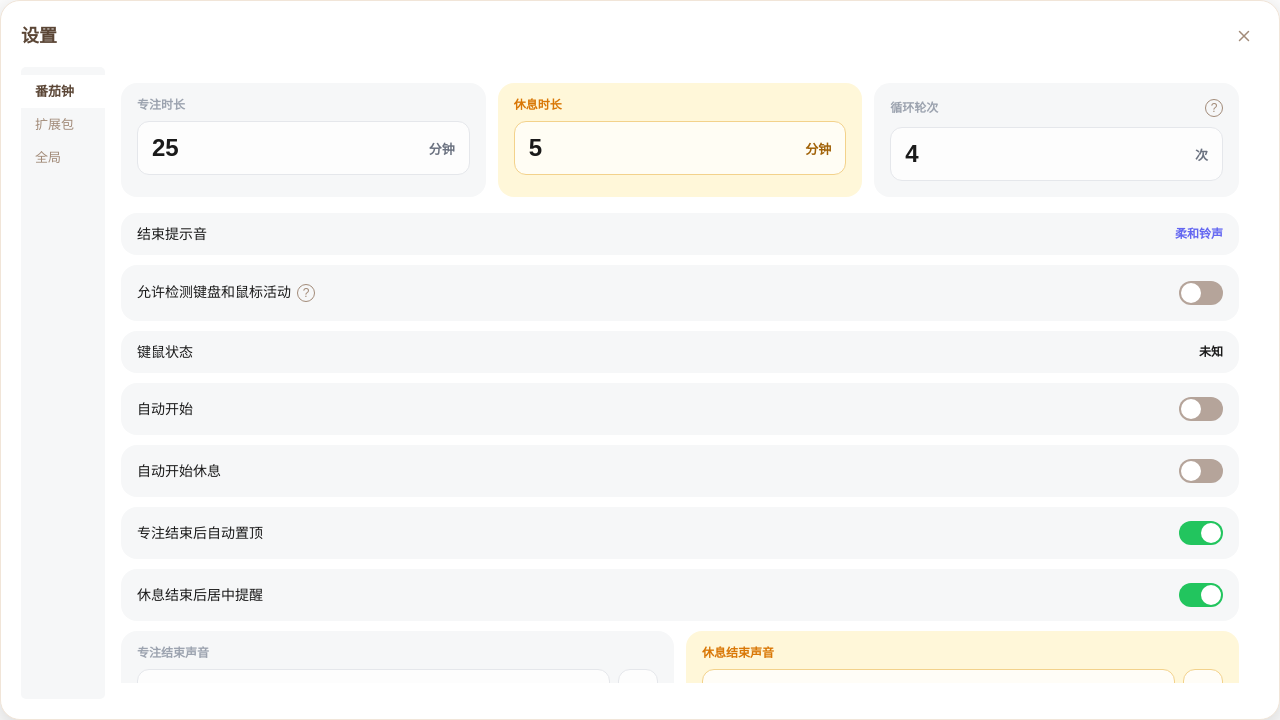
Test: SettingsPanel › opens the global settings surface
Click the button "全局".
click(63, 158)  # box left=21, top=141, right=105, bottom=174
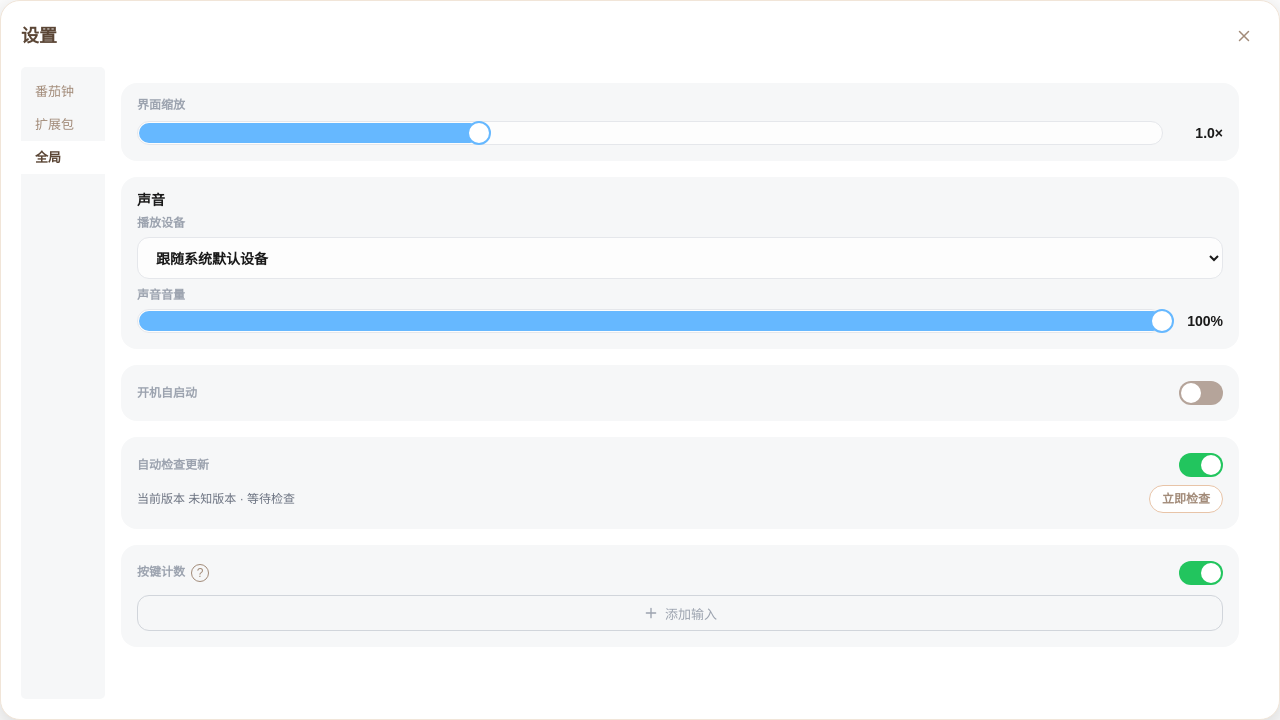
Now the text "界面缩放" is shown, box left=137, top=98, right=185, bottom=112
Now the text "开机自启动" is shown, box left=137, top=387, right=197, bottom=399
